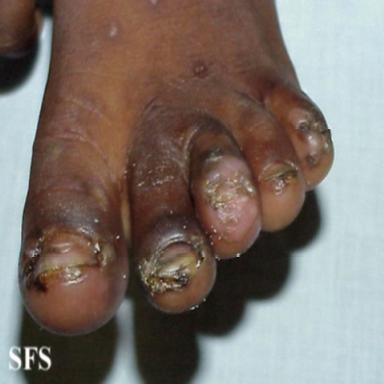Tungiasis: (199, 148, 258, 243), (18, 223, 90, 298), (289, 109, 333, 170), (135, 258, 190, 299), (268, 169, 297, 195), (94, 241, 115, 267)
